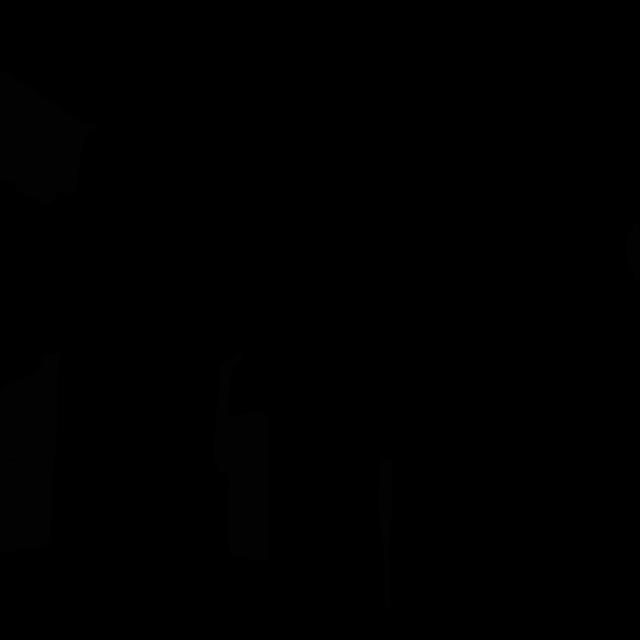cardboard: (0, 68, 96, 204), (213, 351, 268, 562), (0, 353, 62, 461), (0, 460, 53, 554), (378, 458, 394, 609), (626, 220, 640, 286)
